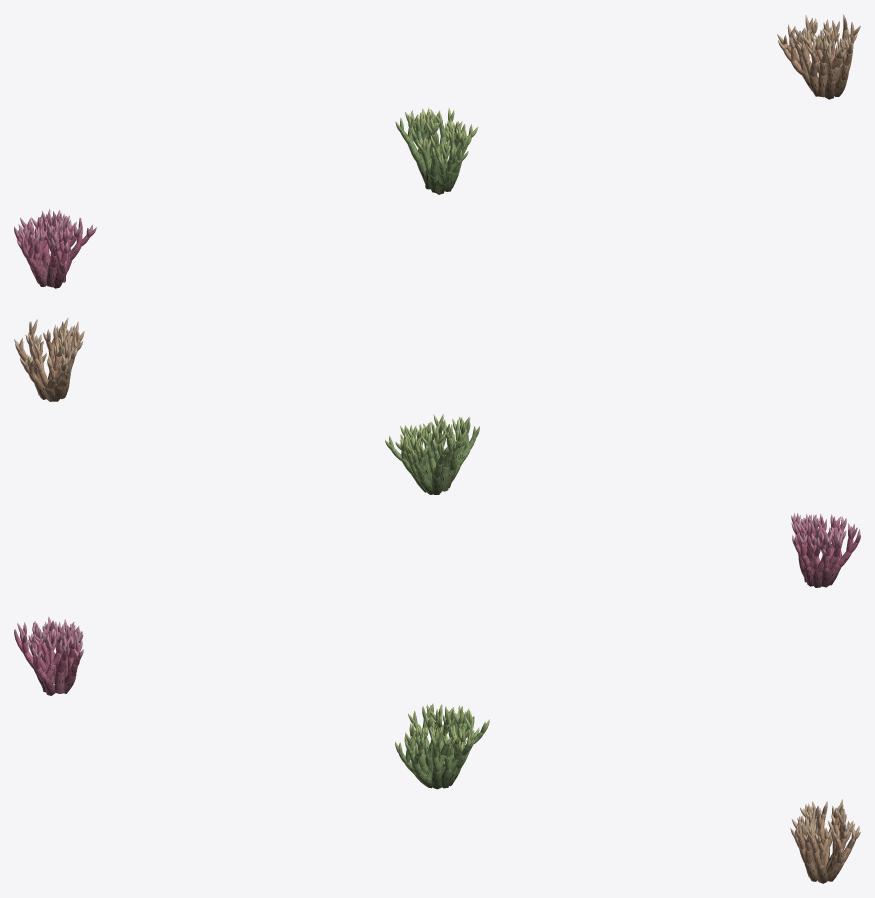
3 views of the same model, one above another, from view 1: azimuth 30°, elevation 25°; view 2: azimuth 150°, elevation 25°; view 3: azimuth 330°, elevation 25° (orthographic).
Visible parts, largest first — view 1: pocillopora-2, pocillopora-1, pocillopora-0; view 2: pocillopora-1, pocillopora-0, pocillopora-2; view 3: pocillopora-1, pocillopora-2, pocillopora-0.
Part boxes in pixels (x1,y1,x2,y2): pocillopora-2: (777,14,860,99); pocillopora-1: (395,108,478,194); pocillopora-0: (14,209,96,288); pocillopora-1: (385,414,479,494); pocillopora-0: (791,513,860,587); pocillopora-2: (14,317,84,401); pocillopora-1: (395,703,489,789); pocillopora-2: (790,799,860,883); pocillopora-0: (14,616,83,695).
Bounding box in the file's own units: 1.31 × 0.1097 × 0.137.
1 material, 1 textured.
